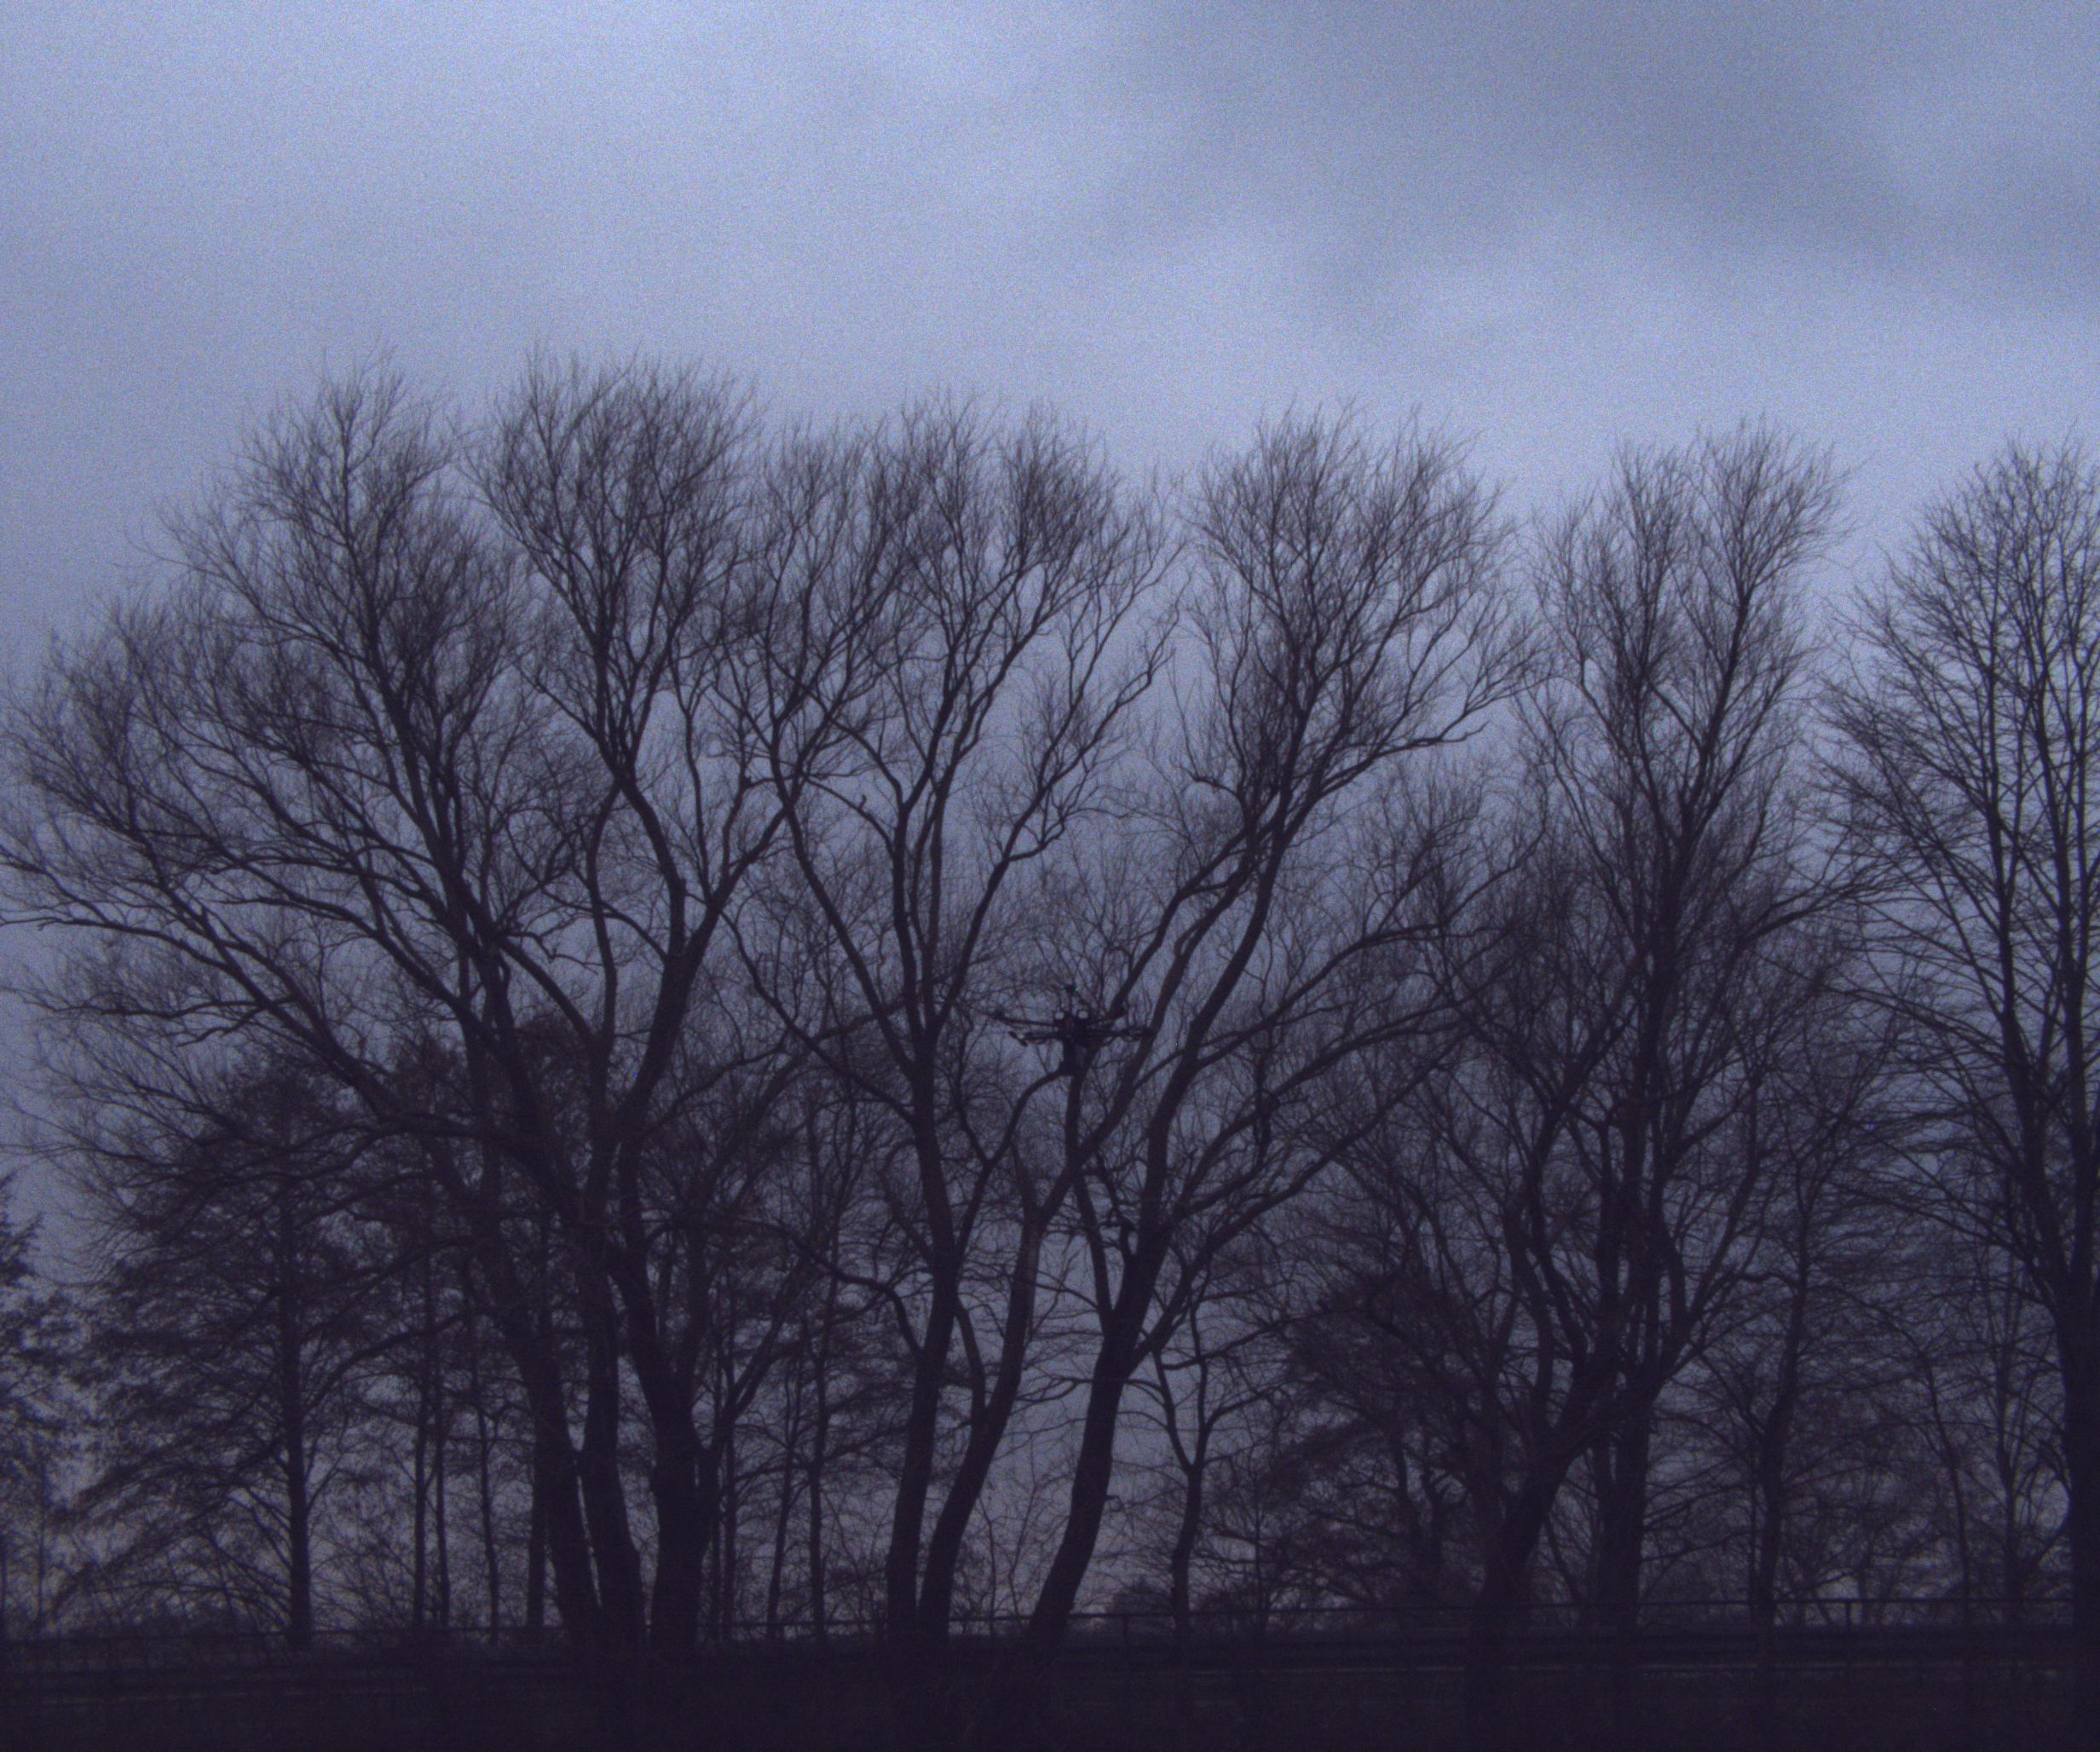Drohne: (937, 922, 1320, 1152)
